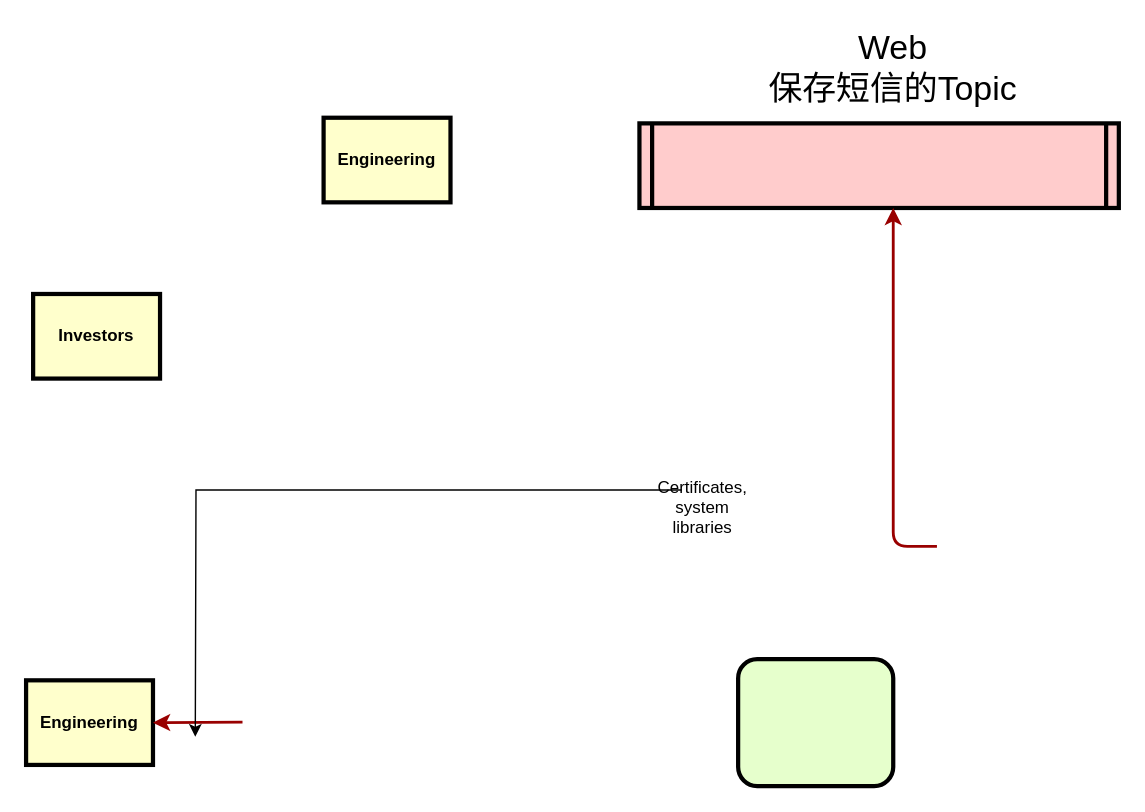
This 1145x812 diagram has some shape labels left out. Each missing label, with the centre of its shape:
"kafka.topic.web.submit sms-server-cmpp-send-task" belongs at [878,165].
"Process 5 New System Design" belongs at [815,721].
